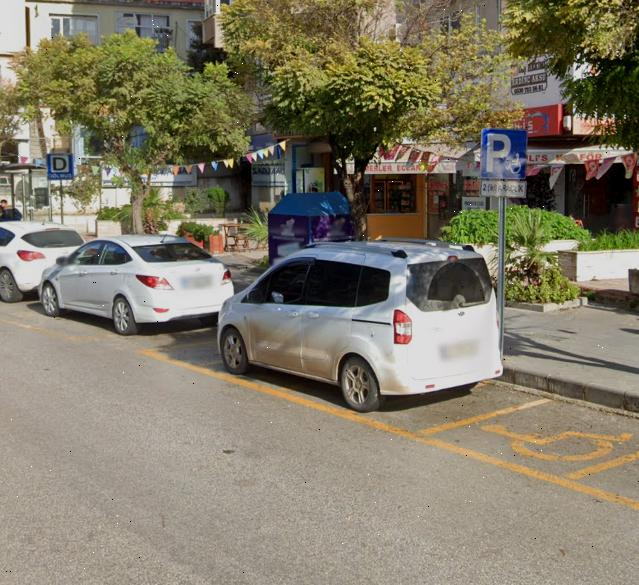disabledpark: (483, 128, 527, 179)
